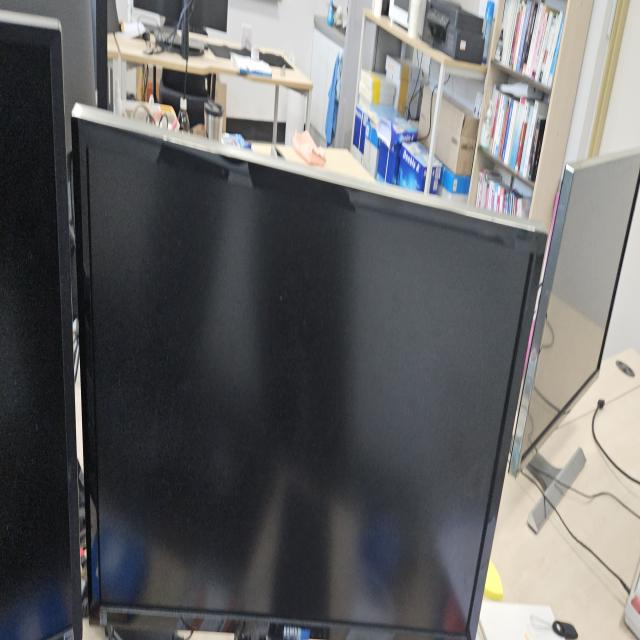Monitor: (69, 96, 549, 634)
